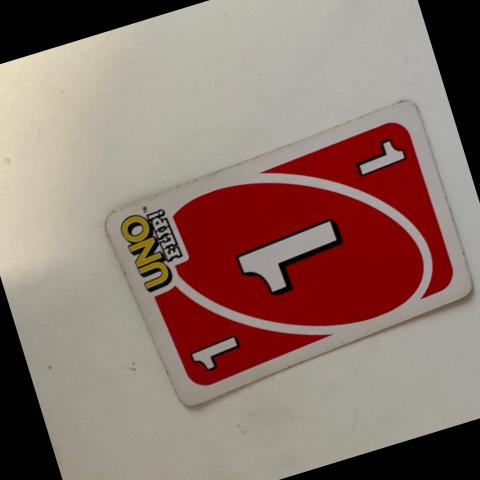lred-1: (166, 303, 266, 396)
